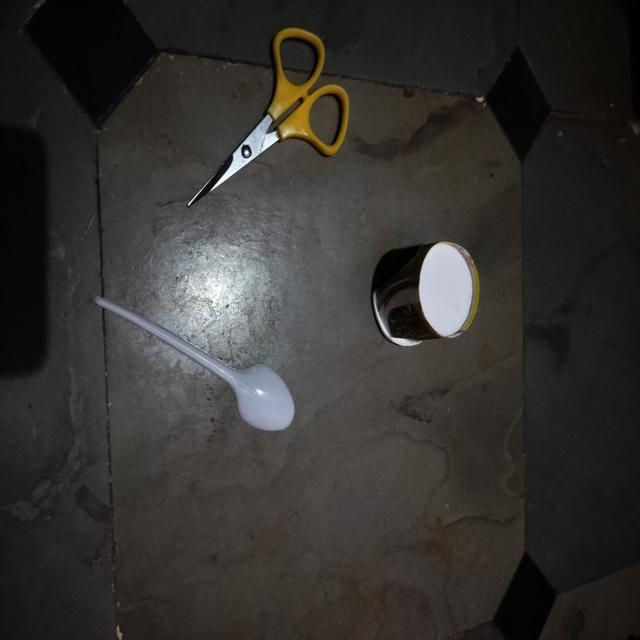paper: (354, 217, 494, 380)
plastic: (83, 279, 314, 467), (177, 19, 349, 208)
